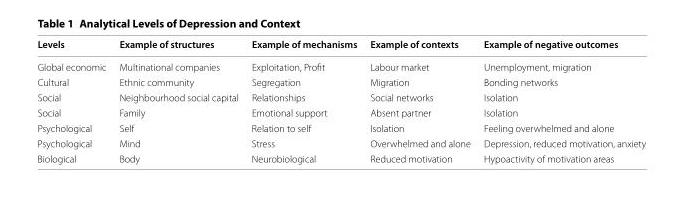table: (36, 37, 645, 164)
table column: (476, 37, 645, 164), (112, 37, 244, 164), (244, 37, 362, 164), (362, 37, 476, 164), (36, 37, 112, 164)
table column header: (36, 37, 645, 55)
table row: (36, 55, 645, 74), (36, 37, 645, 55), (36, 104, 645, 120), (36, 74, 645, 89), (36, 89, 645, 104), (36, 120, 645, 135), (36, 135, 645, 150), (36, 150, 645, 164)
